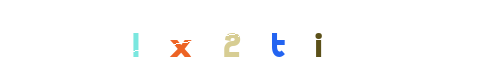1: (140, 0, 220, 80)
2: (202, 0, 282, 80)
I: (278, 0, 358, 80)
T: (237, 0, 317, 80)
X: (169, 0, 249, 80)
